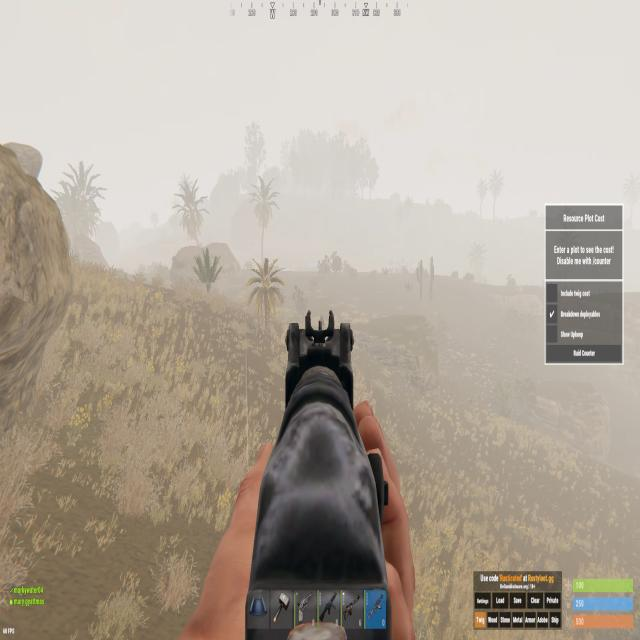Player: (320, 315, 324, 330)
